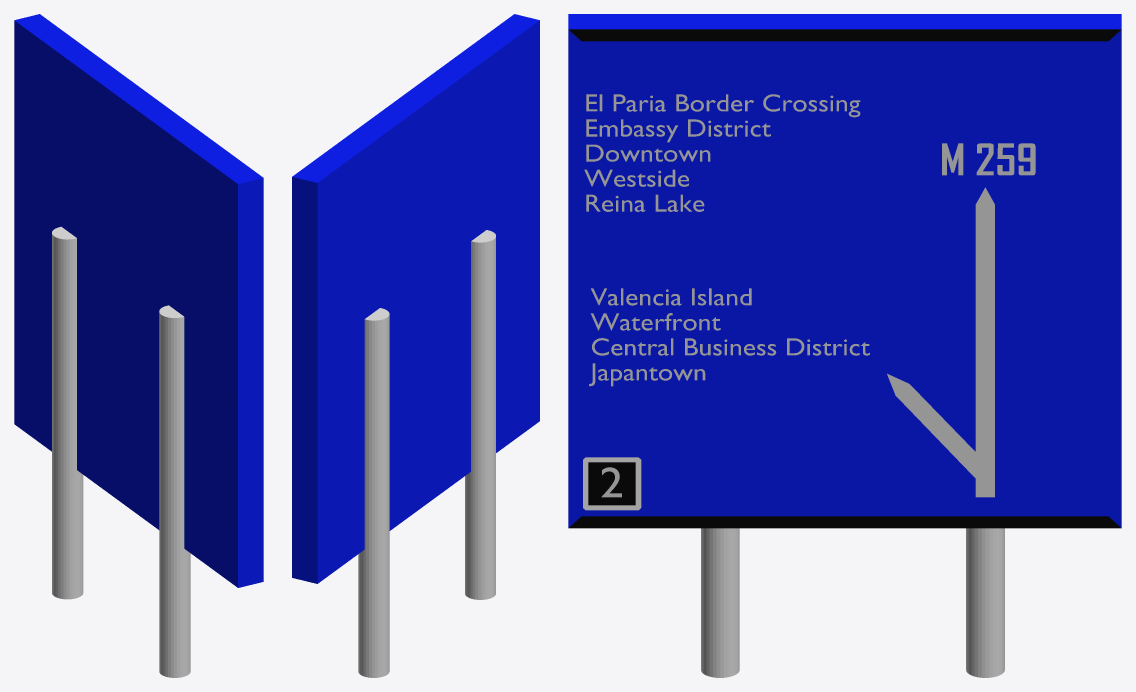
Rendered from UK_motorway_sign_6.fbx.
The picture shows the model from 3 angles, left to right: view 1: azimuth 30°, elevation 25°; view 2: azimuth 150°, elevation 25°; view 3: azimuth 270°, elevation 25°; orthographic projection. The views are drawn at different scales.
Parts seen in each view (by area): view 1: Cube.001, Cylinder, Cylinder.001; view 2: Cube.001, Cylinder.001, Cylinder; view 3: Cube.001, Plane, Cylinder.001, Cylinder, Text.002, Text.004, Plane.002, Plane.001, Text.003.
Part boxes in pixels (x1,y1,x2,y2): Cube.001: (14, 14, 263, 587); Cylinder: (159, 305, 190, 677); Cylinder.001: (52, 226, 83, 599); Cube.001: (292, 14, 539, 583); Cylinder.001: (358, 308, 389, 677); Cylinder: (465, 230, 495, 599); Cube.001: (568, 14, 1121, 528); Plane: (975, 187, 994, 497); Cylinder.001: (966, 528, 1004, 677); Cylinder: (701, 528, 739, 677); Text.002: (584, 94, 860, 211); Text.004: (589, 288, 869, 386); Plane.002: (583, 457, 641, 510); Plane.001: (887, 373, 975, 477); Text.003: (942, 143, 1035, 175).
Bounding box in the file's own units: 6.09 × 74.37 × 56.78.
